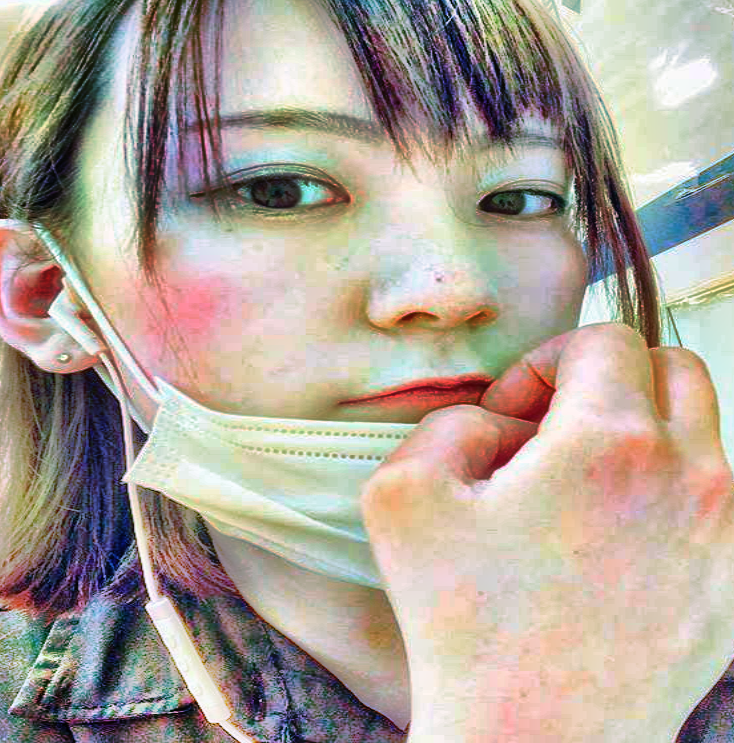mask_weared_incorrect: (1, 1, 595, 575)
